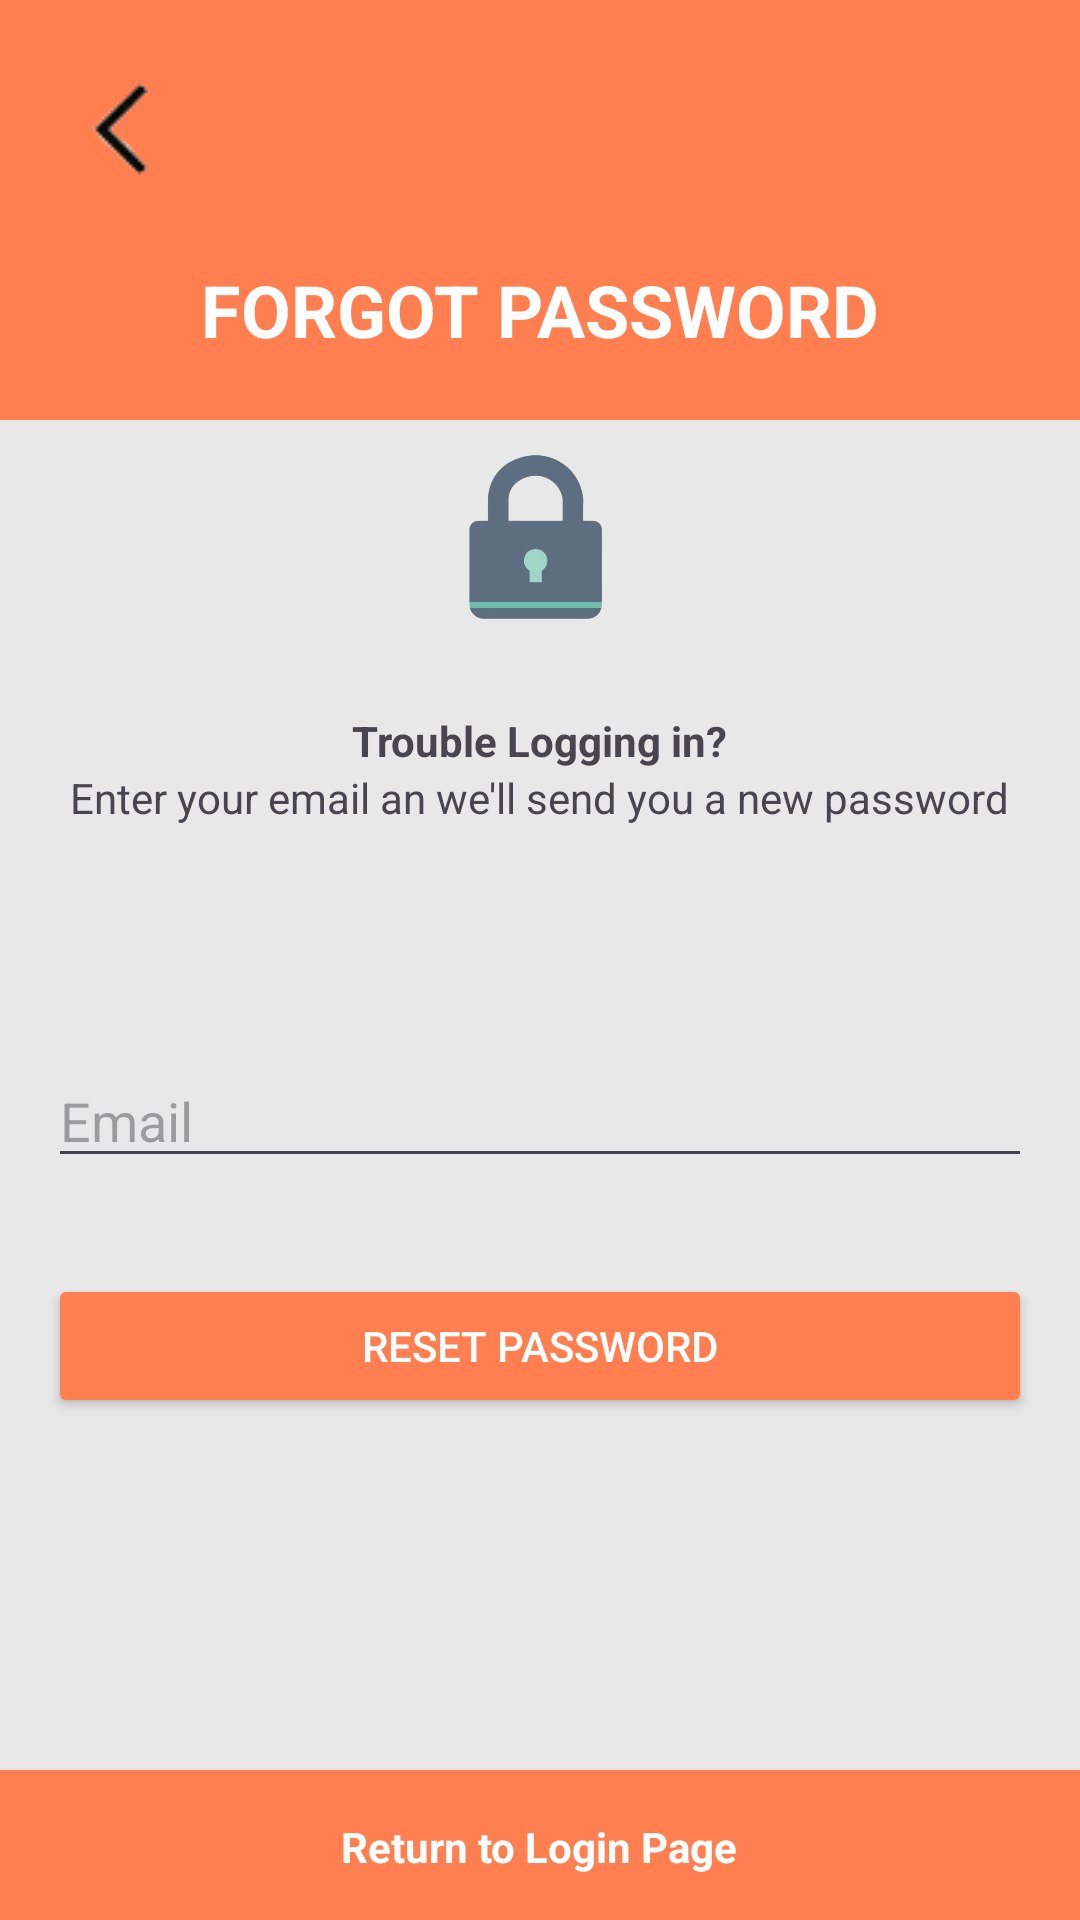

Screen size 1080×1920. Icon name, then its box in pixels as (x1, y1, x2, y2):
back: (94, 83, 148, 175)
lock: (469, 455, 602, 619)
